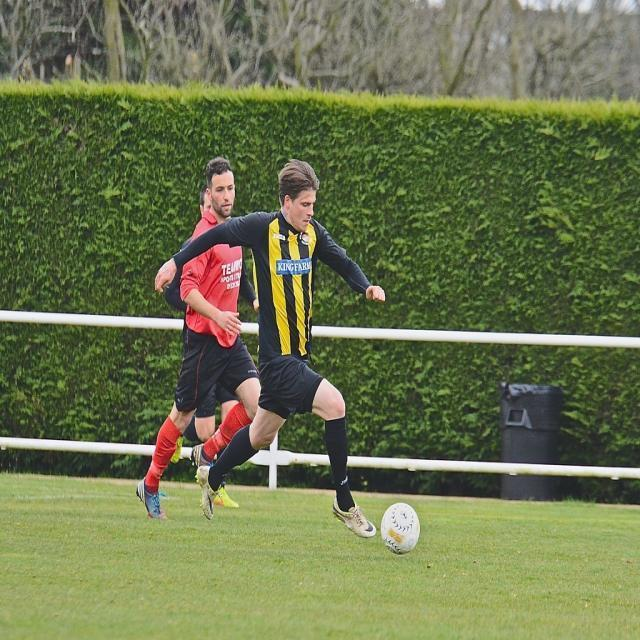ball: (380, 499, 419, 555)
